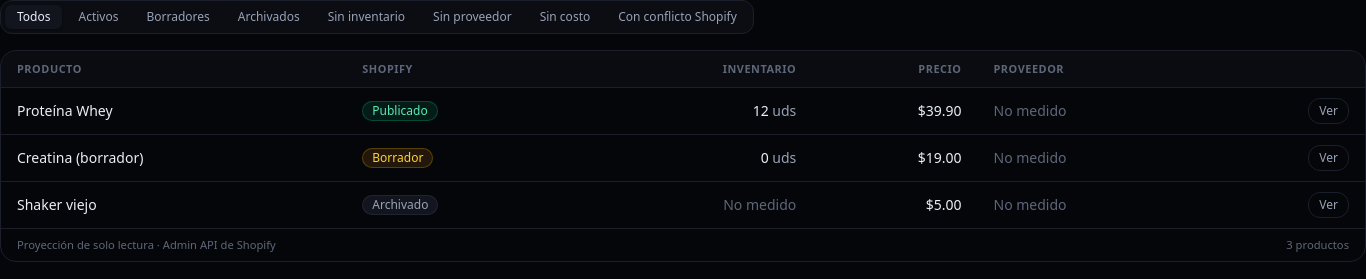
Test: ProductsCatalog › lists all products and filters by Shopify status view
Expected: the text "Proteína Whey" is shown, [1,87,346,134]
Expected: the text "Creatina (borrador)" is shown, [1,134,346,181]
Click the tab "Borradores" at (178, 17), box [134,5,222,29]
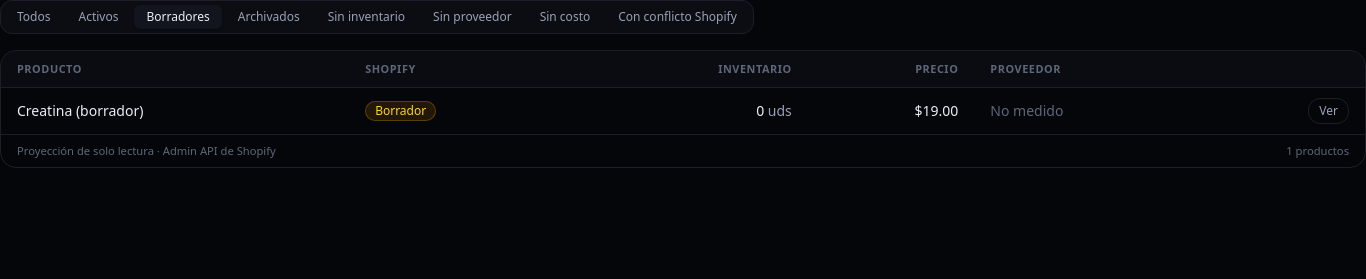
Expected: the text "Creatina (borrador)" is shown, [1,87,349,134]
Now the text "Proteína Whey" is gone
